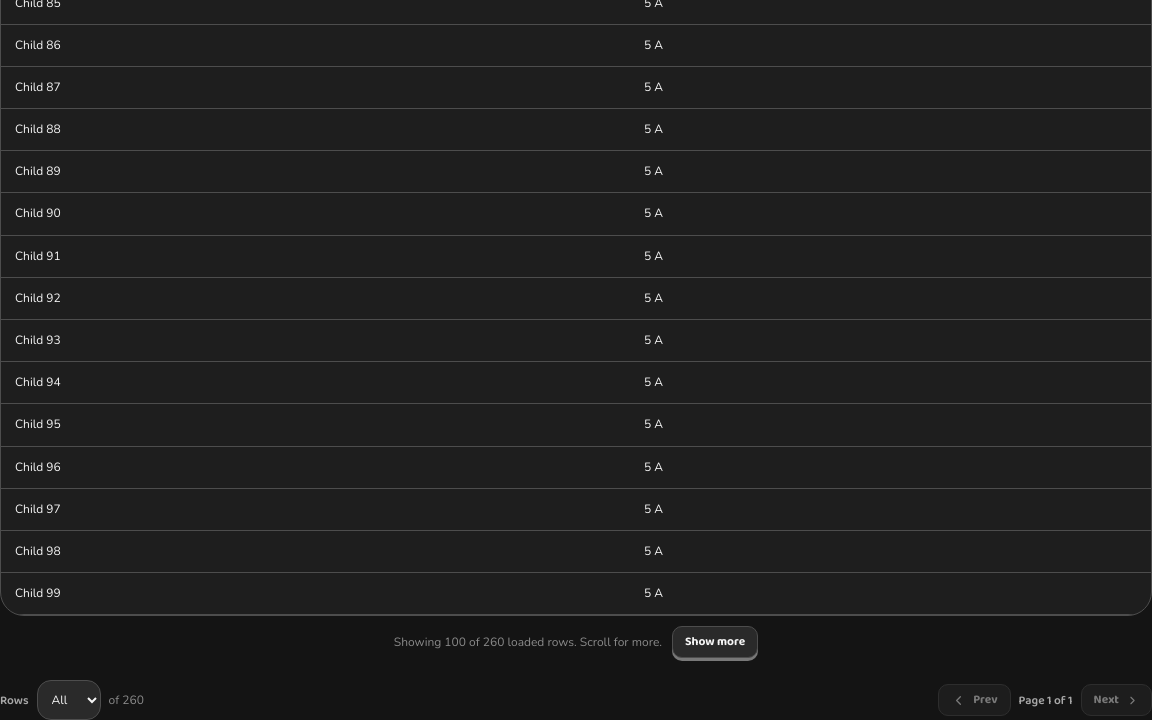
Scenario: the rest arrives, and nothing is lost on the way
(page scrolled)
Click the button with test id "roll-draw-more-button": (715,642) left=672, top=626, right=758, bottom=658
(page scrolled)
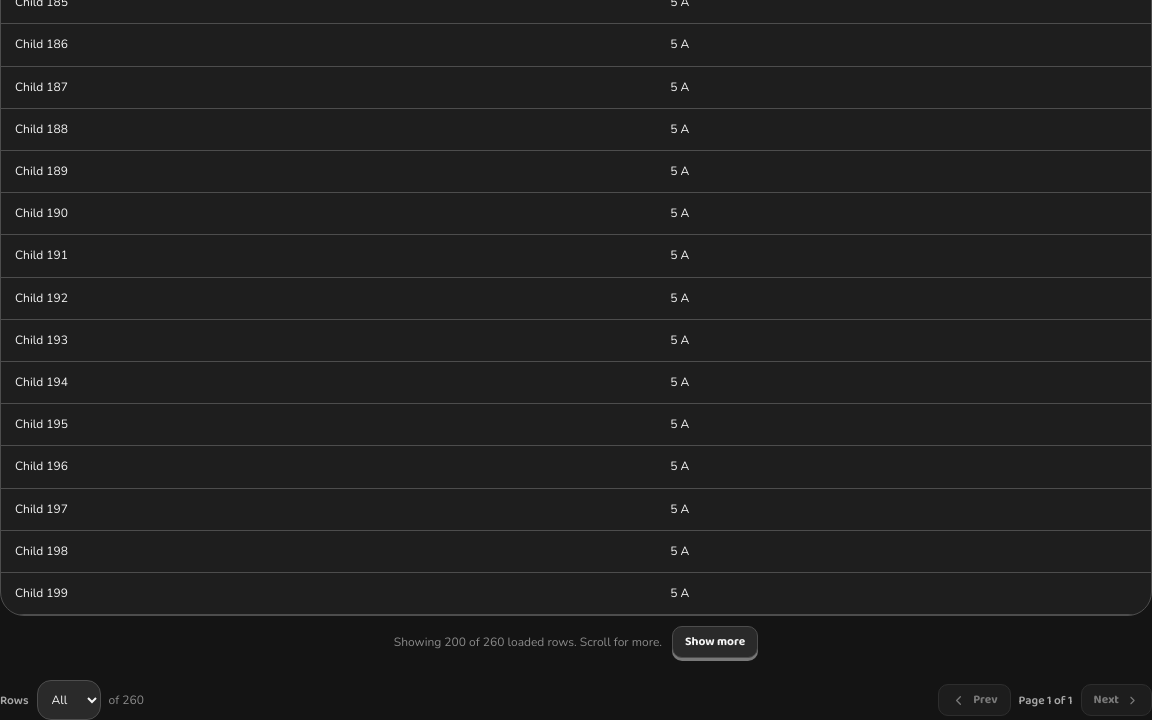
Expected: the text with test id "roll-drawn-count" shows "Showing 200 of 260", left=394, top=634, right=662, bottom=650
Click the button with test id "roll-draw-more-button": (715,642) left=672, top=626, right=758, bottom=658
(page scrolled)
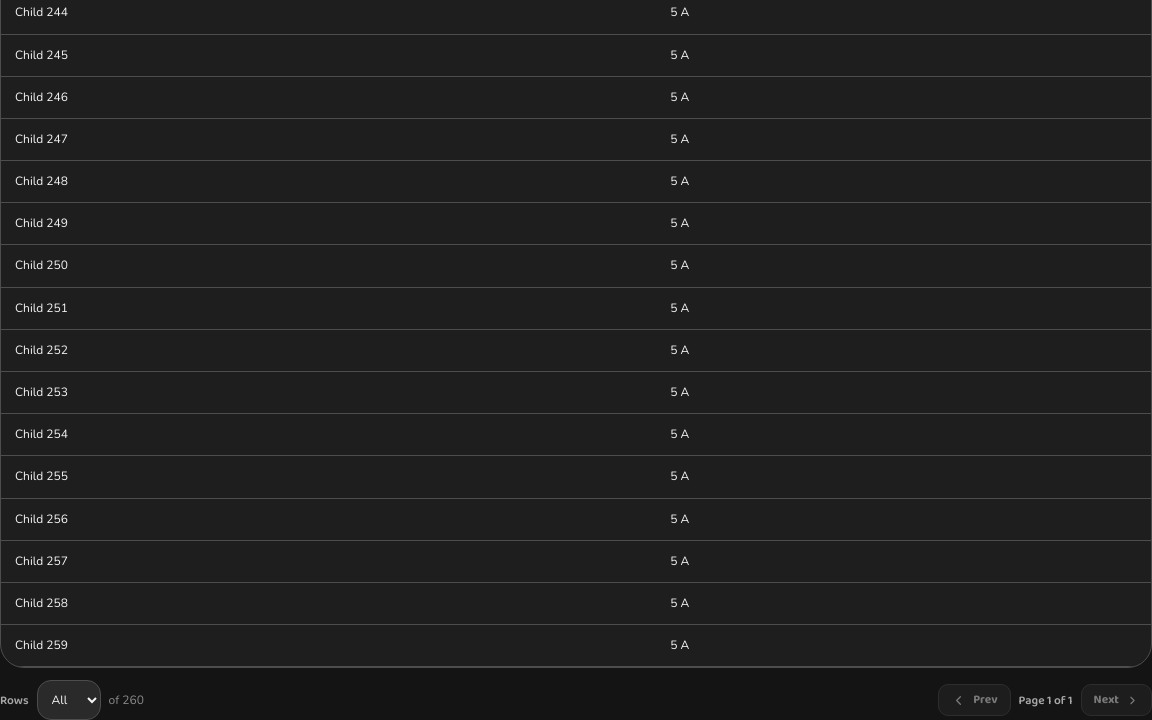
Expected: the text "Child 259" is shown, left=1, top=625, right=656, bottom=667
Expected: the element with test id "roll-draw-more" is gone
